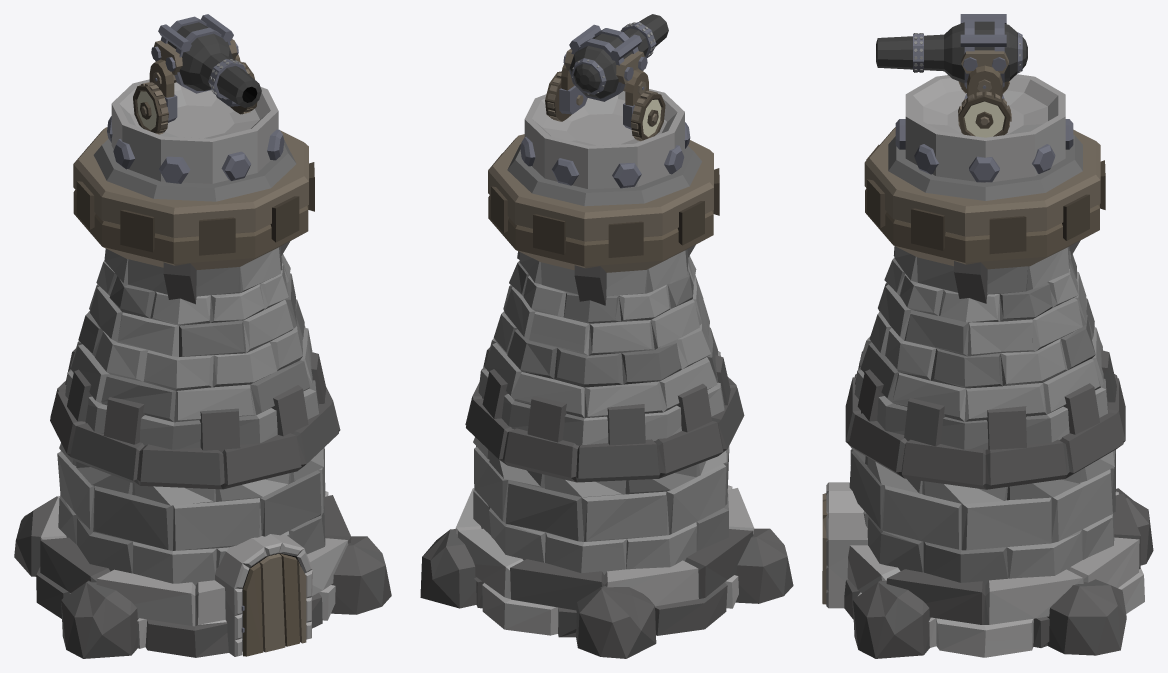
The model's file is _Cannon_tower_LVL_3.fbx.
The picture shows the model from 3 angles, left to right: view 1: azimuth 30°, elevation 25°; view 2: azimuth 150°, elevation 25°; view 3: azimuth 270°, elevation 25°; orthographic projection. The views are drawn at different scales.
Visible parts, largest first — view 1: Cannon_tower_LVL_3; view 2: Cannon_tower_LVL_3; view 3: Cannon_tower_LVL_3.
Part boxes in pixels (box(x1,y1,x2,y2)): Cannon_tower_LVL_3: box(14, 14, 391, 658); Cannon_tower_LVL_3: box(420, 14, 793, 658); Cannon_tower_LVL_3: box(822, 14, 1153, 658).
Bounding box in the file's own units: 707 × 1269 × 672.
